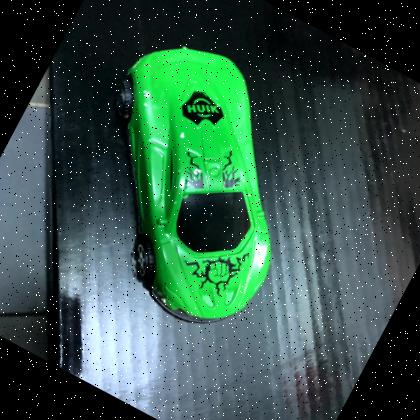Car: (125, 48, 272, 325)
